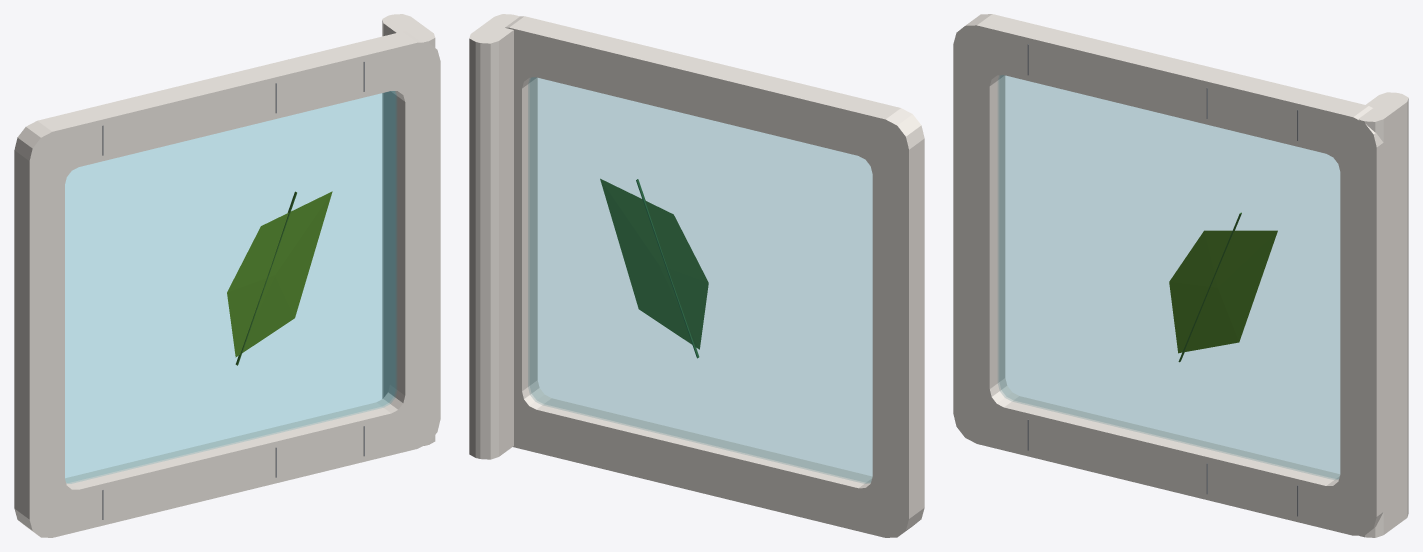
The model's file is wall_bay.glb.
3 renders of one model, left to right at view 1: azimuth 30°, elevation 25°; view 2: azimuth 150°, elevation 25°; view 3: azimuth 330°, elevation 25°, orthographic. The views are drawn at different scales.
Parts seen in each view (by area): view 1: frutiger_aero_wall_bay; view 2: frutiger_aero_wall_bay; view 3: frutiger_aero_wall_bay.
Part boxes in pixels (x1,y1,x2,y2): frutiger_aero_wall_bay: (14, 14, 440, 537); frutiger_aero_wall_bay: (469, 14, 924, 537); frutiger_aero_wall_bay: (953, 14, 1408, 537).
Size of the model in its own units: 3.6 by 3.4 by 0.556.
4 materials, 4 textured.
